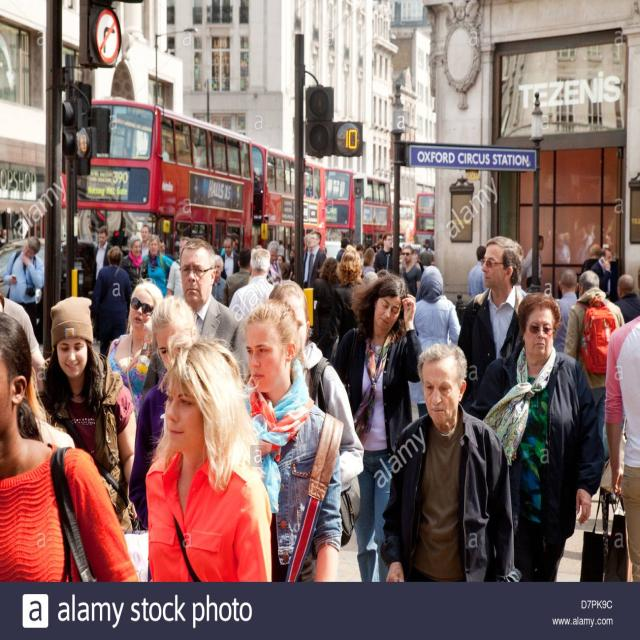body: (466, 288, 606, 582), (140, 328, 274, 585), (380, 342, 516, 584), (38, 294, 145, 582), (332, 269, 423, 583), (266, 278, 365, 548), (39, 308, 140, 536), (128, 294, 202, 531), (456, 235, 532, 411), (158, 229, 436, 277), (602, 263, 640, 581), (562, 269, 626, 443), (178, 237, 250, 381), (106, 276, 166, 427), (404, 264, 462, 419), (225, 247, 279, 382), (106, 131, 248, 178), (0, 288, 50, 394), (90, 245, 132, 361), (324, 243, 364, 361), (2, 236, 44, 338), (312, 256, 340, 362), (547, 221, 613, 261), (550, 268, 579, 358), (142, 234, 174, 298), (254, 168, 320, 199), (222, 247, 254, 309), (117, 234, 146, 294), (166, 236, 192, 302), (90, 225, 113, 292), (612, 273, 640, 324), (520, 234, 546, 288), (306, 230, 328, 288), (590, 246, 614, 299), (1, 225, 49, 250), (400, 245, 422, 298), (467, 245, 489, 298), (220, 236, 240, 283), (362, 195, 391, 227), (373, 232, 394, 274), (266, 239, 284, 287), (211, 252, 227, 305), (579, 243, 603, 278), (109, 220, 130, 256), (138, 222, 153, 260), (360, 247, 376, 280), (334, 236, 350, 264), (288, 248, 296, 282), (0, 289, 5, 319), (276, 254, 286, 267)
